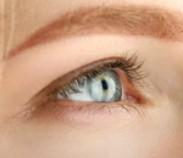eye: (88, 70, 122, 102)
